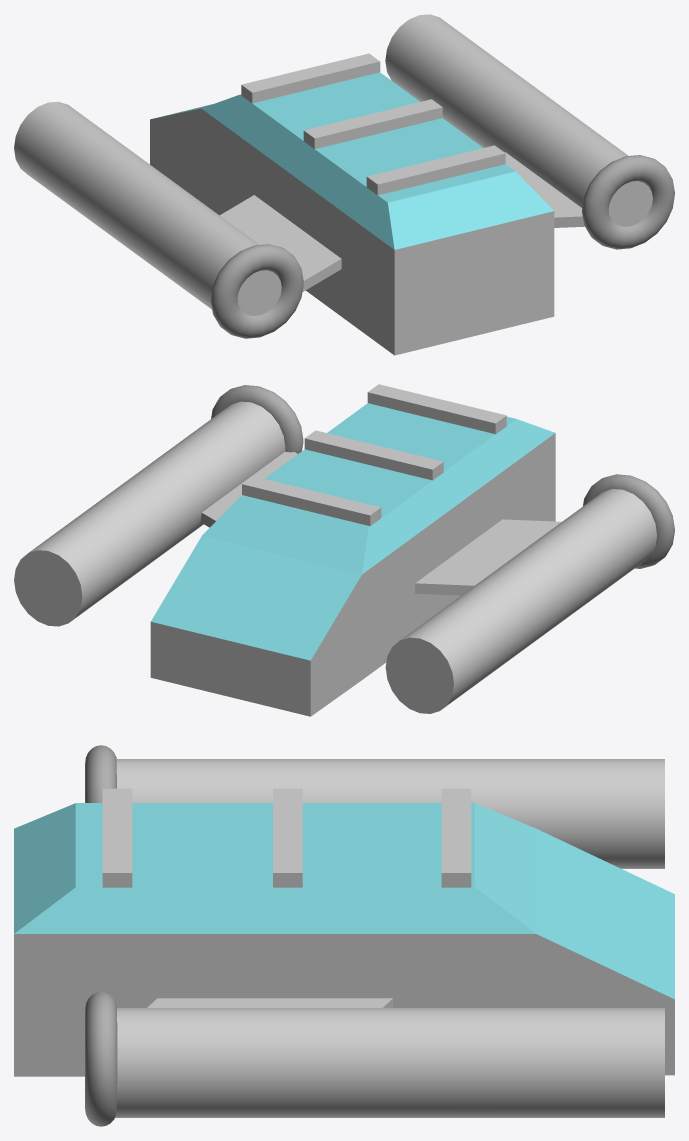
Rendered from SpaceShip.fbx.
The picture shows the model from 3 angles, top to bottom: view 1: azimuth 30°, elevation 25°; view 2: azimuth 150°, elevation 25°; view 3: azimuth 270°, elevation 25°; orthographic projection. The views are drawn at different scales.
Parts seen in each view (by area): view 1: pCube1, pCylinder1, pCylinder2, pTorus1, pTorus2, pCube3, pCube4, pCube2; view 2: pCube1, pCylinder1, pCylinder2, pCube2, pCube3, pCube4, pTorus1, pTorus2; view 3: pCube1, pCylinder2, pCylinder1, pTorus2, pCube2, pCube4, pCube3, pTorus1.
Boxes of the visible parts, bbox=[...] form: pCube1: bbox=[150, 72, 584, 355]; pCylinder1: bbox=[14, 101, 281, 315]; pCylinder2: bbox=[385, 14, 652, 226]; pTorus1: bbox=[210, 244, 303, 338]; pTorus2: bbox=[582, 155, 674, 249]; pCube3: bbox=[303, 99, 442, 149]; pCube4: bbox=[241, 53, 380, 103]; pCube2: bbox=[366, 145, 505, 195]; pCube1: bbox=[150, 403, 561, 716]; pCylinder1: bbox=[385, 489, 656, 713]; pCylinder2: bbox=[14, 401, 285, 626]; pCube2: bbox=[367, 384, 506, 434]; pCube3: bbox=[304, 430, 443, 480]; pCube4: bbox=[242, 476, 381, 525]; pTorus1: bbox=[583, 474, 674, 568]; pTorus2: bbox=[211, 385, 303, 453]; pCube1: bbox=[14, 803, 674, 1076]; pCylinder2: bbox=[115, 1008, 664, 1117]; pCylinder1: bbox=[116, 759, 664, 868]; pTorus2: bbox=[85, 991, 117, 1126]; pCube2: bbox=[102, 788, 132, 887]; pCube4: bbox=[441, 788, 471, 887]; pCube3: bbox=[273, 788, 302, 887]; pTorus1: bbox=[85, 745, 116, 802].
Size of the model in its own units: 4.3 by 1.27 by 3.95.
